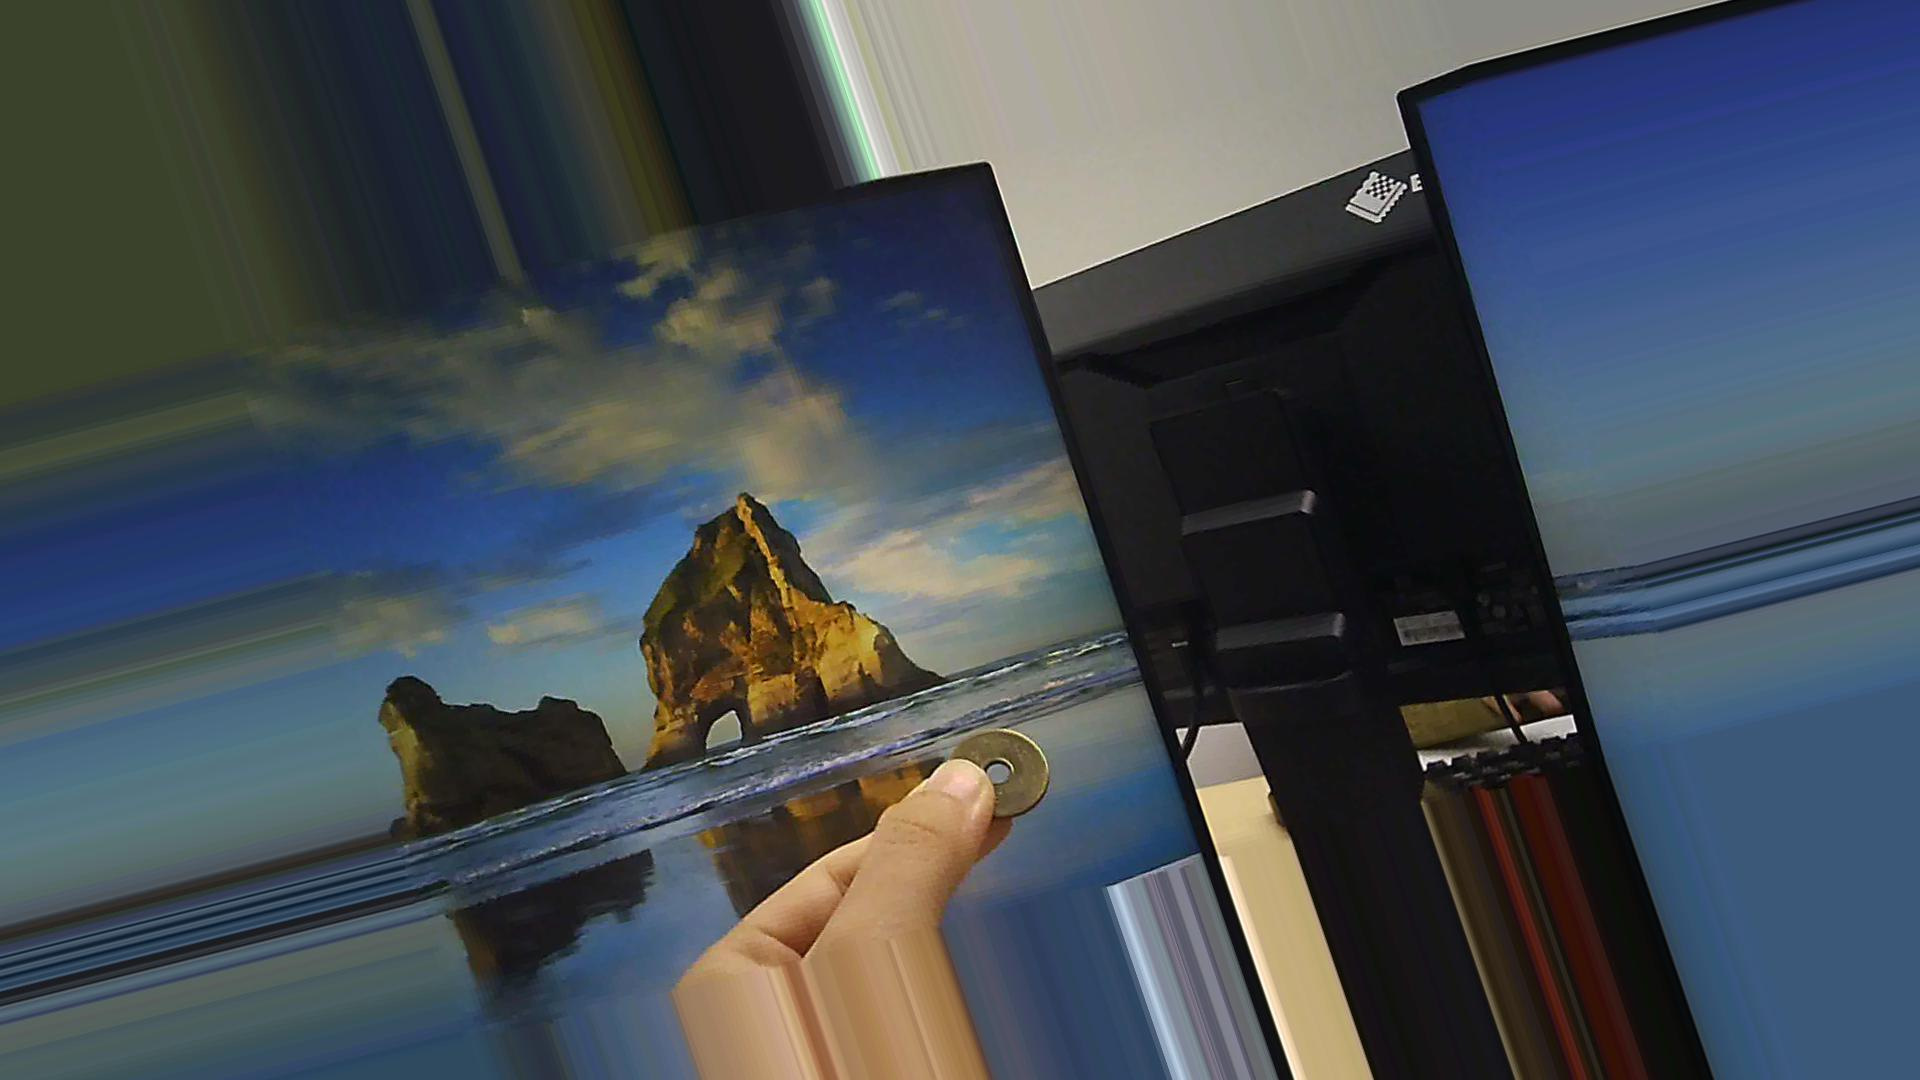5 Yen: (939, 707, 1052, 819)
